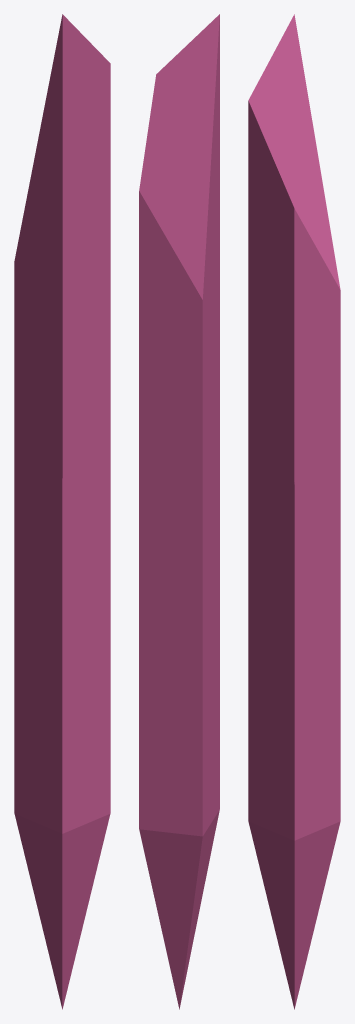
File: Pin2Cut1.fbx
3 renders of one model, left to right at view 1: azimuth 90°, elevation 25°; view 2: azimuth 210°, elevation 25°; view 3: azimuth 270°, elevation 25°, orthographic. The views are drawn at different scales.
Parts seen in each view (by area): view 1: Cone; view 2: Cone; view 3: Cone.
Boxes of the visible parts, x1,y1,x2,y2 form: Cone: (14,14,110,1009); Cone: (139,14,219,1009); Cone: (248,14,340,1009).
Bounding box in the file's own units: 16.76 × 196 × 16.76.
